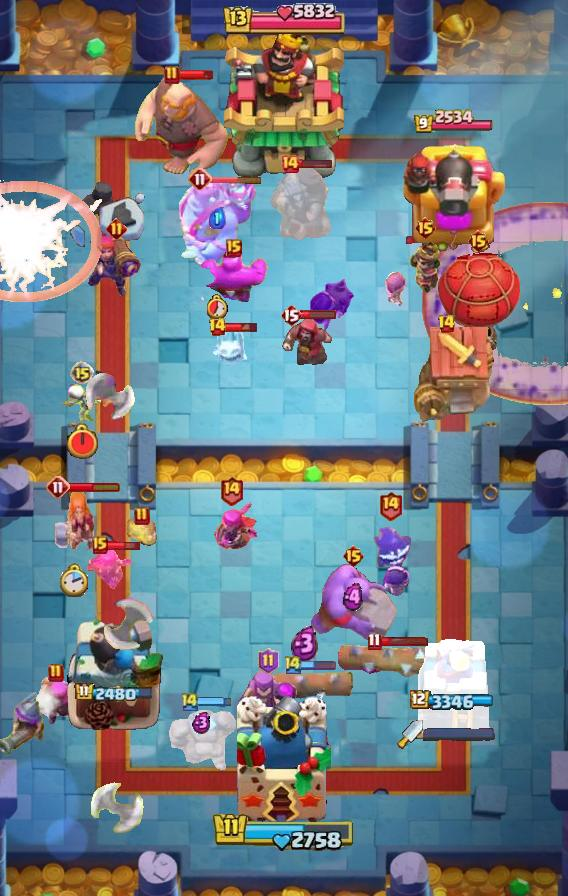archer-evolution: (199, 500, 263, 555), (87, 542, 137, 592)
axe: (102, 597, 170, 651), (89, 772, 145, 834), (85, 373, 139, 433)
bar: (68, 481, 121, 493), (379, 636, 429, 647), (209, 175, 263, 184), (106, 539, 141, 552), (301, 659, 337, 671), (178, 69, 214, 81), (224, 321, 259, 333), (300, 309, 337, 320), (197, 696, 233, 707), (298, 158, 333, 169)
bar-level: (378, 490, 403, 521), (219, 475, 244, 506), (46, 475, 70, 499), (70, 361, 94, 385), (188, 167, 212, 191), (342, 544, 365, 568), (467, 229, 490, 253), (414, 216, 437, 240), (258, 648, 279, 674), (280, 303, 302, 327), (106, 218, 127, 239), (180, 691, 200, 712), (283, 654, 303, 675), (280, 154, 300, 174), (208, 317, 227, 337), (437, 314, 456, 334), (48, 663, 64, 683), (134, 506, 150, 526), (164, 65, 180, 85), (92, 536, 108, 554), (226, 239, 242, 257), (367, 632, 382, 651)
bomber-evolution: (308, 277, 354, 335)
cannoneer-tower: (399, 138, 507, 256), (63, 615, 165, 731)
clock: (65, 423, 100, 461), (60, 563, 90, 599), (207, 294, 228, 319)
dagger-duchess-tower: (416, 637, 490, 731)
dagger-duchess-tower-bar: (423, 727, 495, 741)
electro-spirit: (368, 525, 412, 573)
elixir: (291, 625, 319, 662), (343, 583, 363, 612), (192, 711, 211, 734), (209, 207, 226, 229)
elixir-golem-mid: (200, 252, 268, 304)
firecracker: (36, 674, 77, 728)
firecracker-evolution: (88, 227, 144, 299)
golemite: (165, 705, 237, 773)
ice-spirit: (210, 329, 254, 369)
king-tower: (224, 29, 344, 181), (237, 696, 331, 826)
king-tower-bar: (212, 811, 356, 853), (221, 0, 347, 40)
lava-pup: (124, 517, 160, 549)
little-prince: (406, 241, 444, 297)
mother-witch: (236, 670, 300, 728)
musketeer: (0, 688, 56, 754)
skeleton: (60, 383, 105, 421)
skeleton-evolution: (382, 269, 409, 307), (382, 565, 409, 599)
the-log: (337, 640, 440, 678), (255, 664, 355, 702)
tower-bar: (413, 109, 494, 135), (410, 690, 496, 712), (74, 682, 154, 704)
valkyrie: (51, 491, 99, 553)
wizard: (281, 315, 335, 373)
